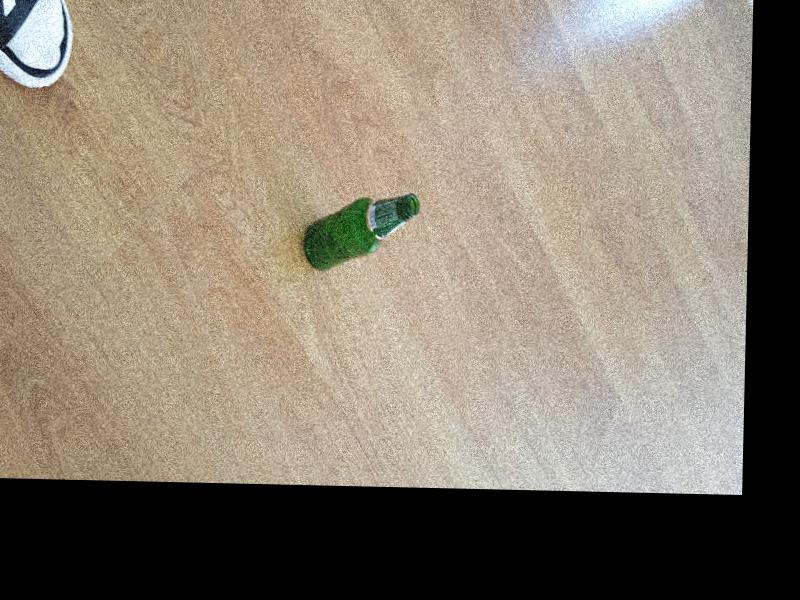Beer: (303, 191, 417, 269)
